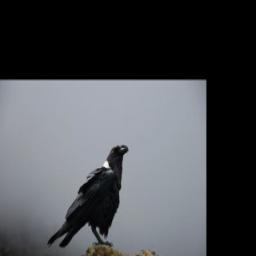Crow: (45, 139, 129, 253)
